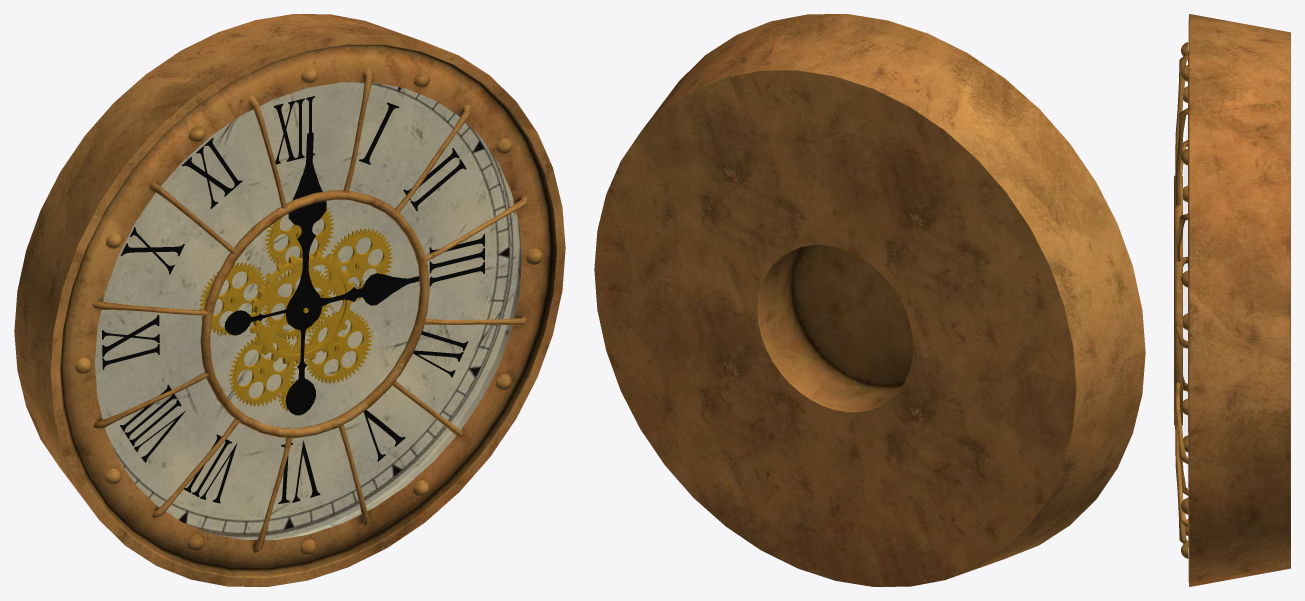
File: steampunk-style_clock-transformed.glb
3 views of the same model, side by side, from view 1: azimuth 30°, elevation 25°; view 2: azimuth 150°, elevation 25°; view 3: azimuth 270°, elevation 25° (orthographic). The views are drawn at different scales.
Parts seen in each view (by area): view 1: Cover_Clock_Mat_01_0, polySurface43_Clock_Mat_02_0; view 2: Cover_Clock_Mat_01_0; view 3: Cover_Clock_Mat_01_0.
Part boxes in pixels (x1,y1,x2,y2): Cover_Clock_Mat_01_0: (14, 14, 565, 586); polySurface43_Clock_Mat_02_0: (200, 207, 392, 410); Cover_Clock_Mat_01_0: (594, 14, 1145, 586); Cover_Clock_Mat_01_0: (1174, 14, 1290, 586).
Bounding box in the file's own units: 0.1069 × 0.1069 × 0.0218.
3 materials, 3 textured.
